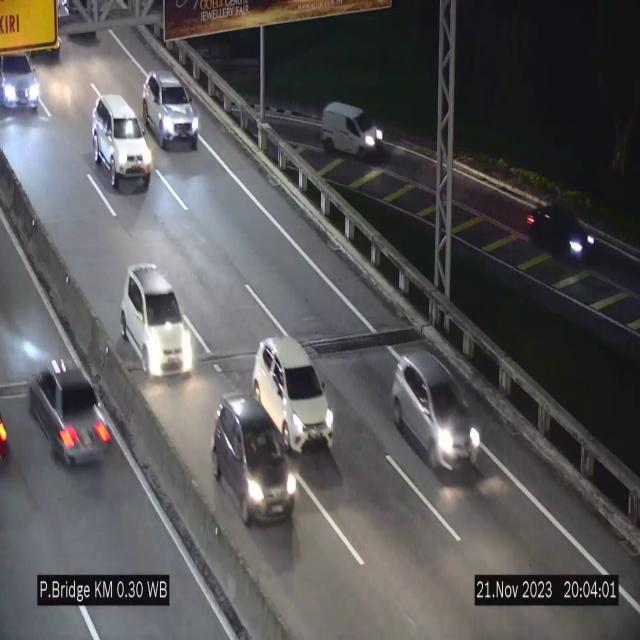Car: (26, 338, 122, 483), (210, 393, 298, 531), (399, 347, 476, 482), (252, 335, 336, 451), (510, 178, 602, 281), (121, 266, 194, 376), (92, 94, 152, 190), (319, 81, 381, 167), (143, 72, 200, 148), (0, 53, 41, 119)
